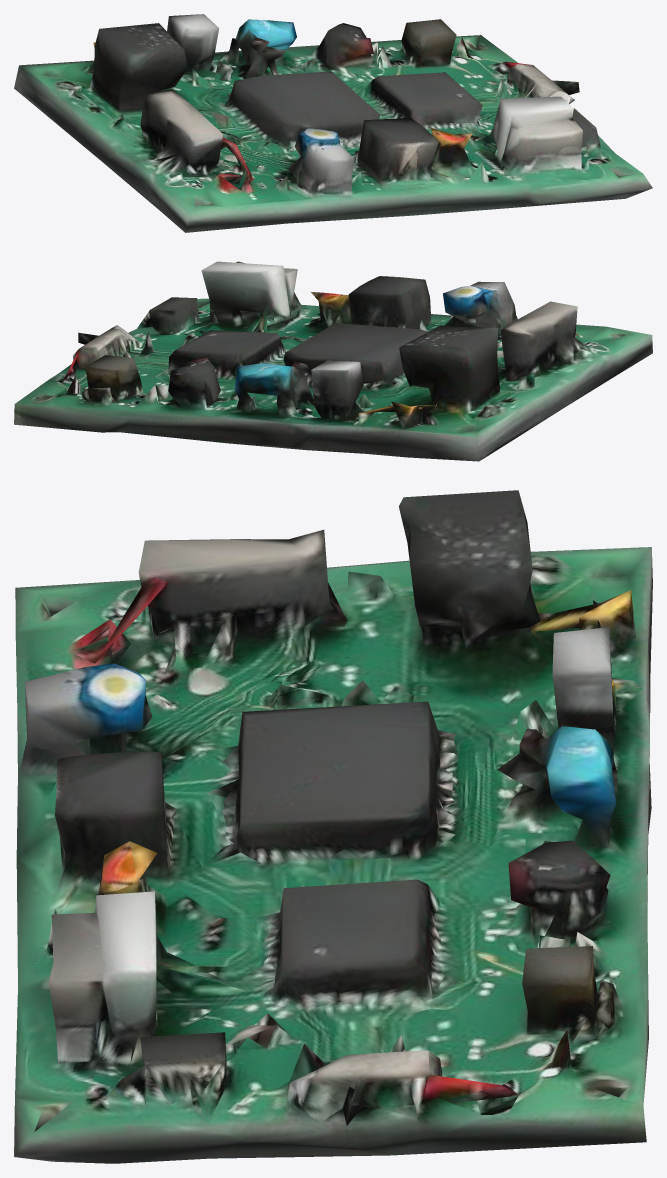
Rendered from qi_electro.glb.
3 views of the same model, one above another, from view 1: azimuth 30°, elevation 25°; view 2: azimuth 150°, elevation 25°; view 3: azimuth 270°, elevation 25° (orthographic). The views are drawn at different scales.
Visible parts, largest first — view 1: tripo_node_a7052e25-0ba3-4149-b09d-1e635b8f3049; view 2: tripo_node_a7052e25-0ba3-4149-b09d-1e635b8f3049; view 3: tripo_node_a7052e25-0ba3-4149-b09d-1e635b8f3049.
Part boxes in pixels (left/top/right/bottom): tripo_node_a7052e25-0ba3-4149-b09d-1e635b8f3049: left=14, top=14, right=652, bottom=232; tripo_node_a7052e25-0ba3-4149-b09d-1e635b8f3049: left=14, top=261, right=652, bottom=461; tripo_node_a7052e25-0ba3-4149-b09d-1e635b8f3049: left=14, top=490, right=652, bottom=1163.
Bounding box in the file's own units: 1 × 0.3336 × 0.6244.
Materials: 1 (1 with a texture image).
